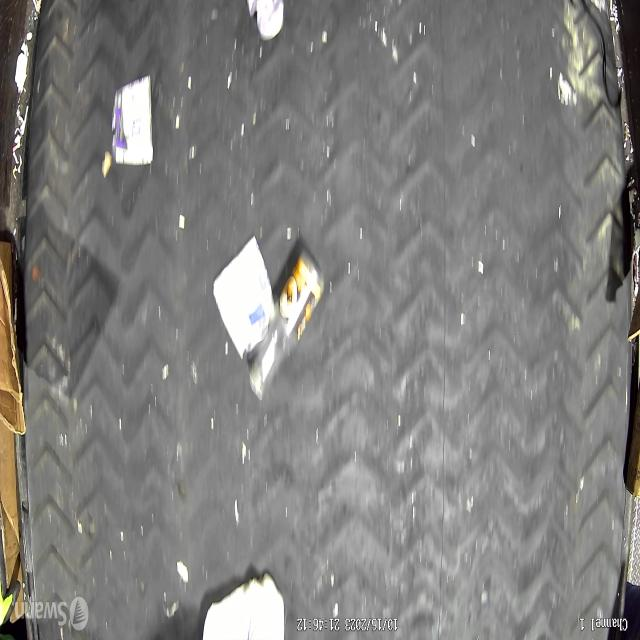can: (212, 234, 274, 360), (111, 75, 153, 167)
plastic_bottle: (248, 246, 324, 402)
